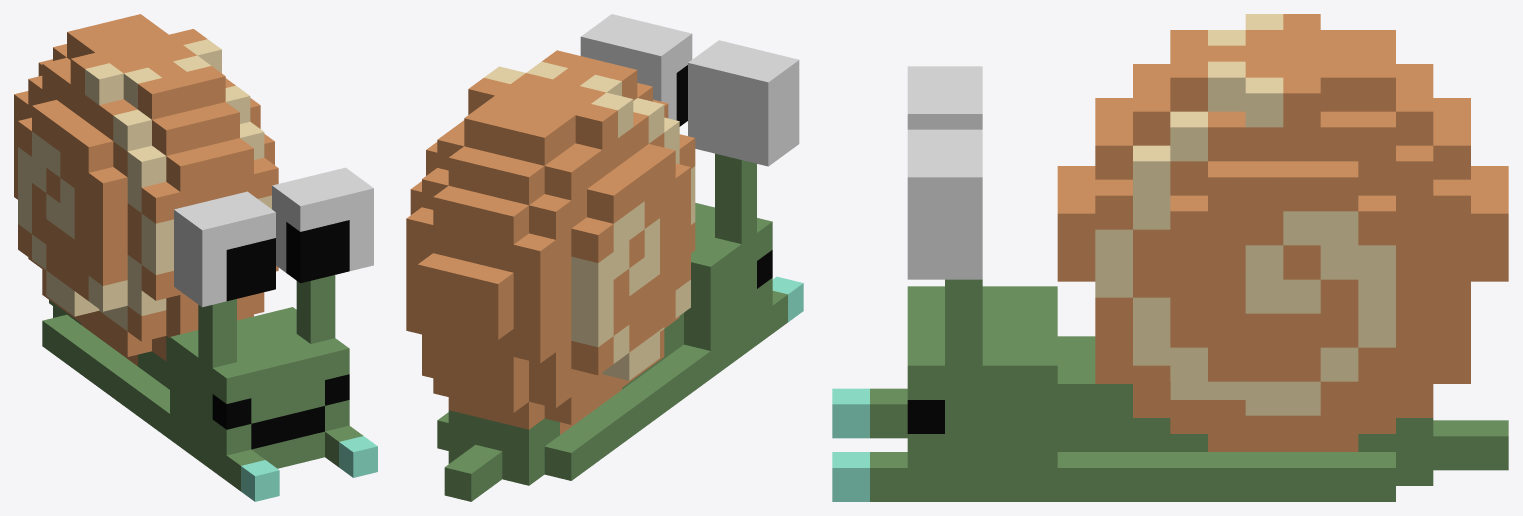
The model's file is snail.glb.
The picture shows the model from 3 angles, left to right: view 1: azimuth 30°, elevation 25°; view 2: azimuth 150°, elevation 25°; view 3: azimuth 270°, elevation 25°; orthographic projection. The views are drawn at different scales.
Parts seen in each view (by area): view 1: Snail-PrimaryColor, Snail-PAINT-#6f9a62, Snail-SecondaryColor, Snail-EYES-White, Snail-EYES-Black, Snail-GLOW-Feelers; view 2: Snail-PrimaryColor, Snail-PAINT-#6f9a62, Snail-EYES-White, Snail-SecondaryColor, Snail-EYES-Black, Snail-GLOW-Feelers; view 3: Snail-PrimaryColor, Snail-PAINT-#6f9a62, Snail-SecondaryColor, Snail-EYES-White, Snail-GLOW-Feelers, Snail-EYES-Black.
Part boxes in pixels (x1,y1,x2,y2): Snail-PrimaryColor: (14,14,278,366); Snail-PAINT-#6f9a62: (42,275,363,491); Snail-SecondaryColor: (18,39,271,331); Snail-EYES-White: (174,167,373,307); Snail-EYES-Black: (212,220,349,449); Snail-GLOW-Feelers: (241,436,377,501); Snail-PrimaryColor: (406,50,695,434); Snail-PAINT-#6f9a62: (437,153,787,501); Snail-EYES-White: (580,14,799,166); Snail-SecondaryColor: (484,61,695,380); Snail-EYES-Black: (676,65,772,288); Snail-GLOW-Feelers: (772,276,803,322); Snail-PrimaryColor: (1057,14,1508,451); Snail-PAINT-#6f9a62: (870,279,1508,501); Snail-SecondaryColor: (1095,14,1395,415); Snail-EYES-White: (907,66,982,279); Snail-GLOW-Feelers: (832,388,869,501); Snail-EYES-Black: (907,400,944,433).
Size of the model in its own units: 14 by 24 by 36.
